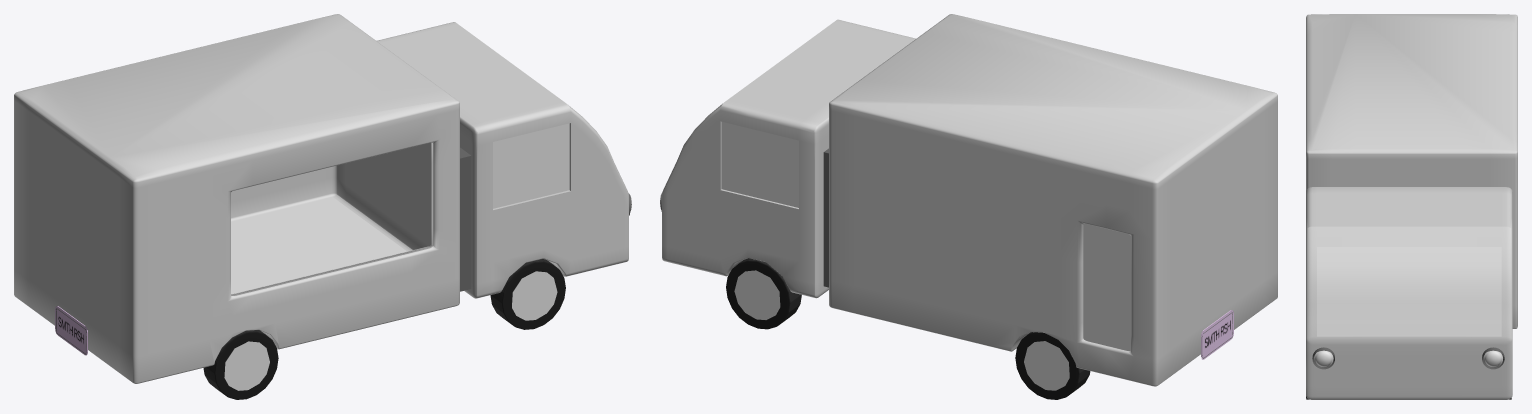
Rendered from open car.fbx.
The picture shows the model from 3 angles, left to right: view 1: azimuth 30°, elevation 25°; view 2: azimuth 150°, elevation 25°; view 3: azimuth 270°, elevation 25°; orthographic projection. The views are drawn at different scales.
Visible parts, largest first — view 1: Truck_Back.001; view 2: Truck_Back.001; view 3: Truck_Back.001.
Boxes of the visible parts, x1,y1,x2,y2 form: Truck_Back.001: (14, 14, 631, 399); Truck_Back.001: (660, 14, 1277, 399); Truck_Back.001: (1306, 14, 1517, 399).
Bounding box in the file's own units: 1341 × 630 × 560.
Materials: 9 (1 with a texture image).
